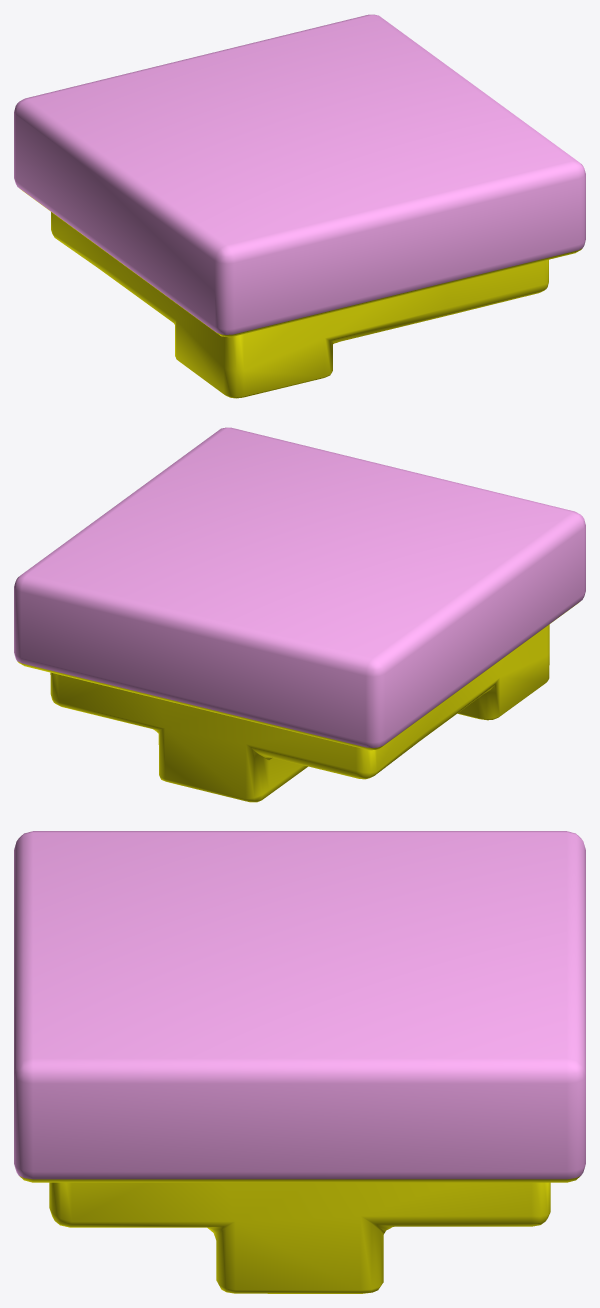
Rendered from TurretBlock.fbx.
3 views of the same model, one above another, from view 1: azimuth 30°, elevation 25°; view 2: azimuth 150°, elevation 25°; view 3: azimuth 270°, elevation 25° (orthographic). The views are drawn at different scales.
Parts seen in each view (by area): view 1: GroundBlock; view 2: GroundBlock; view 3: GroundBlock.
Part boxes in pixels (x1=…): GroundBlock: x1=14, y1=14, x2=585, y2=398; GroundBlock: x1=14, y1=427, x2=585, y2=802; GroundBlock: x1=14, y1=831, x2=585, y2=1293.
Size of the model in its own units: 300 by 143 by 300.
